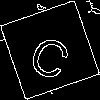C: (25, 25, 78, 83)
